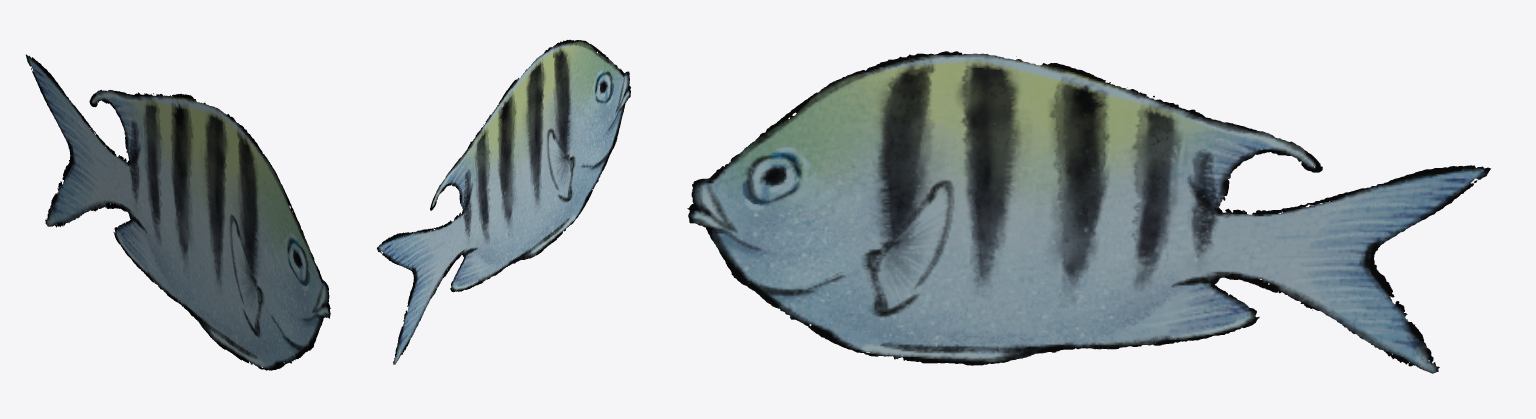
File: fish2.fbx
3 views of the same model, side by side, from view 1: azimuth 30°, elevation 25°; view 2: azimuth 150°, elevation 25°; view 3: azimuth 270°, elevation 25° (orthographic). The views are drawn at different scales.
Visible parts, largest first — view 1: fish2; view 2: fish2; view 3: fish2.
Part boxes in pixels (x1,y1,x2,y2): fish2: (26, 54, 330, 370); fish2: (377, 39, 630, 364); fish2: (687, 51, 1490, 373).
Size of the model in its own units: 1.93e-05 by 100 by 198.
